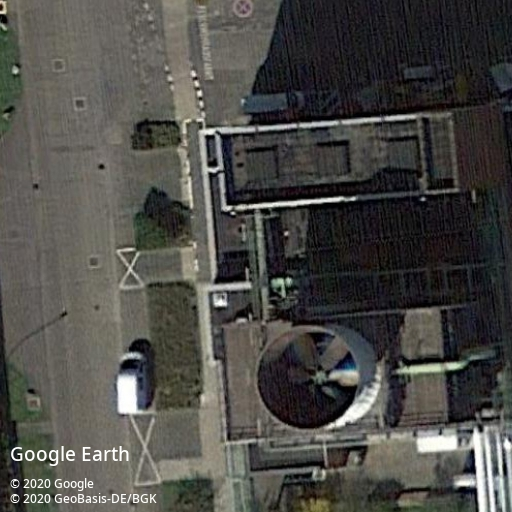Vent: (254, 325, 361, 433)
